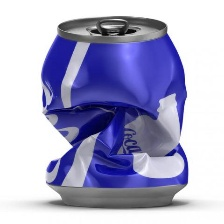can: (37, 11, 195, 213)
